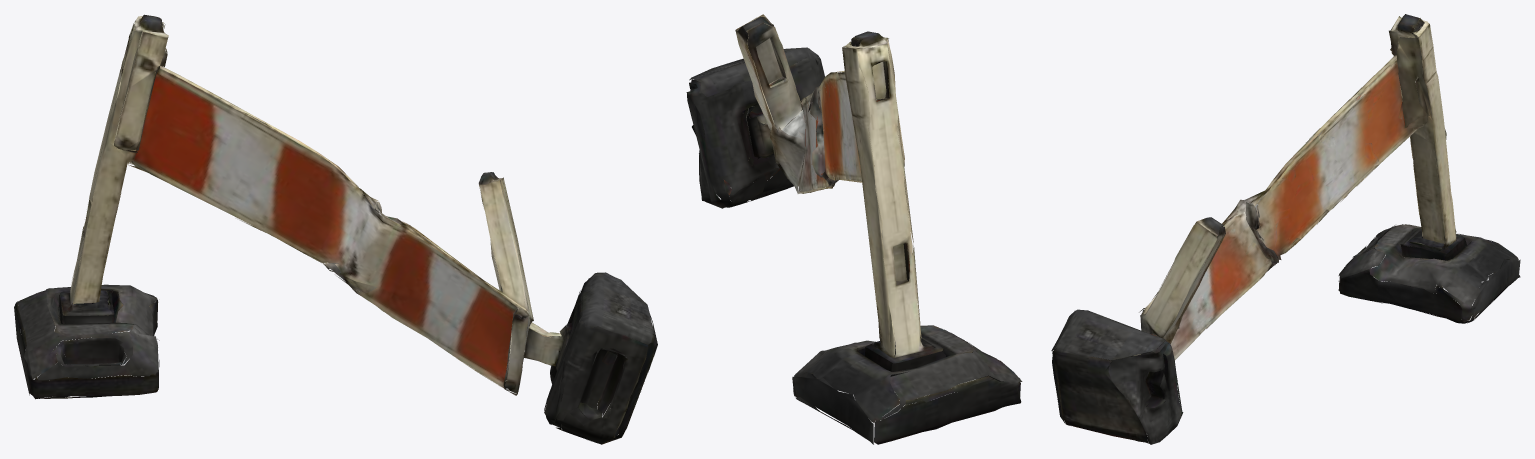
Rendered from hafen_absperrung_kaputt.glb.
3 views of the same model, side by side, from view 1: azimuth 30°, elevation 25°; view 2: azimuth 150°, elevation 25°; view 3: azimuth 270°, elevation 25° (orthographic). The views are drawn at different scales.
Parts seen in each view (by area): view 1: Prop; view 2: Prop; view 3: Prop.
Part boxes in pixels (x1,y1,x2,y2): Prop: [14, 14, 657, 444]; Prop: [686, 14, 1022, 444]; Prop: [1051, 14, 1520, 444].
Size of the model in its own units: 1.4 by 1 by 1.43.
1 material, 1 textured.
